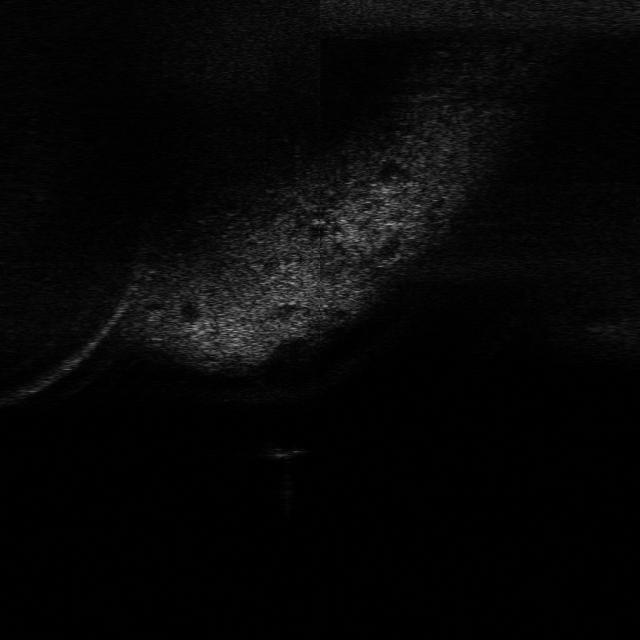cube: (251, 435, 308, 462)
